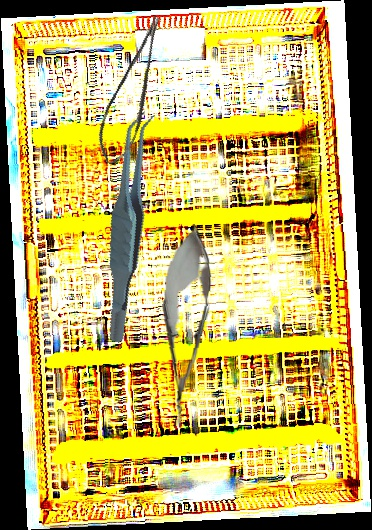Micro Scissor: (85, 13, 187, 170), (153, 222, 218, 431)
Tissue Forceps: (60, 107, 197, 345)
